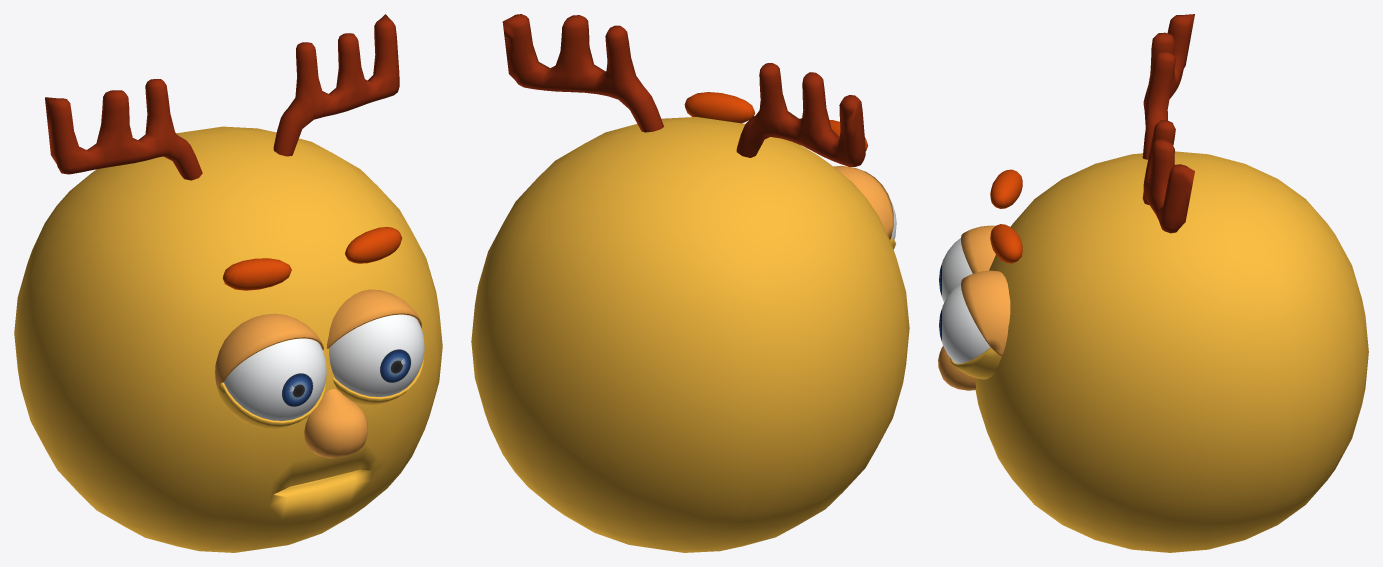
The model's file is Losina.fbx.
3 renders of one model, left to right at view 1: azimuth 30°, elevation 25°; view 2: azimuth 150°, elevation 25°; view 3: azimuth 270°, elevation 25°, orthographic. The views are drawn at different scales.
Parts seen in each view (by area): view 1: Cube.023, Cube.026, Eye.001, EyeBrows.004, Cube.024, Cube.025, EyeBrows.005; view 2: Cube.023, Cube.026, Cube.025, EyeBrows.004; view 3: Cube.023, Cube.026, EyeBrows.004, Eye.001, Cube.025, EyeBrows.005, Cube.024.
Part boxes in pixels (left/top/right/bottom): Cube.023: left=14, top=126, right=442, bottom=552; Cube.026: left=45, top=14, right=399, bottom=180; Eye.001: left=223, top=314, right=424, bottom=420; EyeBrows.004: left=215, top=289, right=421, bottom=388; Cube.024: left=304, top=389, right=367, bottom=458; Cube.025: left=222, top=227, right=402, bottom=290; EyeBrows.005: left=217, top=355, right=424, bottom=428; Cube.023: left=471, top=117, right=909, bottom=552; Cube.026: left=502, top=14, right=865, bottom=166; Cube.025: left=684, top=92, right=868, bottom=150; EyeBrows.004: left=833, top=165, right=893, bottom=239; Cube.023: left=975, top=151, right=1368, bottom=552; Cube.026: left=1142, top=14, right=1194, bottom=233; EyeBrows.004: left=961, top=225, right=1010, bottom=356; Eye.001: left=939, top=238, right=990, bottom=363; Cube.025: left=990, top=169, right=1022, bottom=263; EyeBrows.005: left=950, top=347, right=1001, bottom=379; Cube.024: left=938, top=346, right=975, bottom=390.
Bounding box in the file's own units: 99.59 × 123 × 108.
